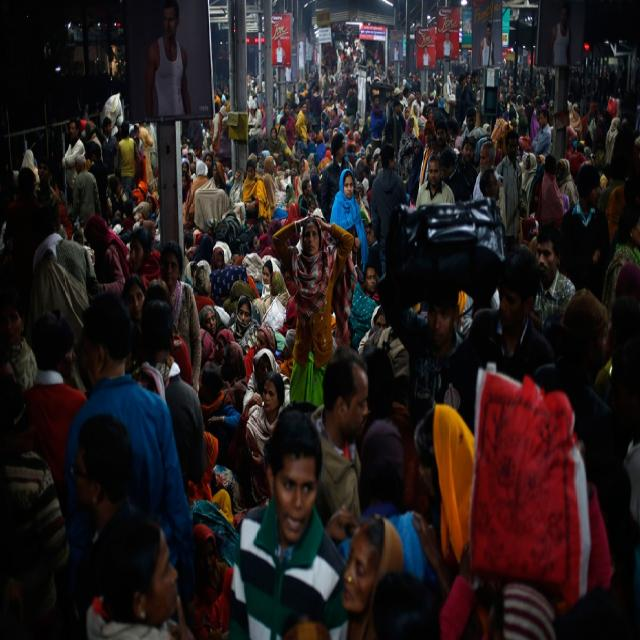body: (0, 0, 581, 354), (62, 290, 193, 604), (580, 0, 640, 637), (462, 363, 588, 640), (227, 410, 351, 640), (382, 261, 494, 453), (64, 410, 152, 640), (0, 369, 72, 640), (462, 242, 556, 436), (336, 416, 436, 588), (271, 208, 355, 412), (183, 223, 271, 401), (246, 567, 452, 640), (407, 403, 476, 609), (85, 516, 195, 640), (22, 313, 88, 493), (310, 345, 370, 530), (340, 514, 404, 640), (156, 238, 203, 396), (186, 429, 247, 530), (244, 368, 288, 506), (186, 521, 235, 640), (145, 0, 192, 120), (528, 223, 577, 337), (3, 164, 45, 294), (369, 141, 408, 278), (328, 167, 370, 284), (0, 284, 39, 390), (83, 212, 132, 296), (472, 139, 507, 233), (477, 166, 506, 264), (70, 152, 103, 232), (128, 225, 166, 294), (414, 154, 457, 207), (62, 116, 86, 208), (115, 120, 142, 198), (16, 147, 42, 201), (101, 115, 118, 170), (84, 118, 103, 164)
